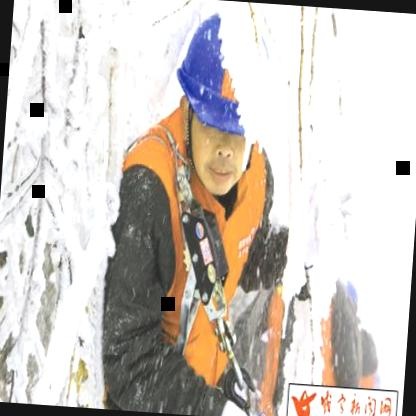helmet: (164, 0, 270, 216)
